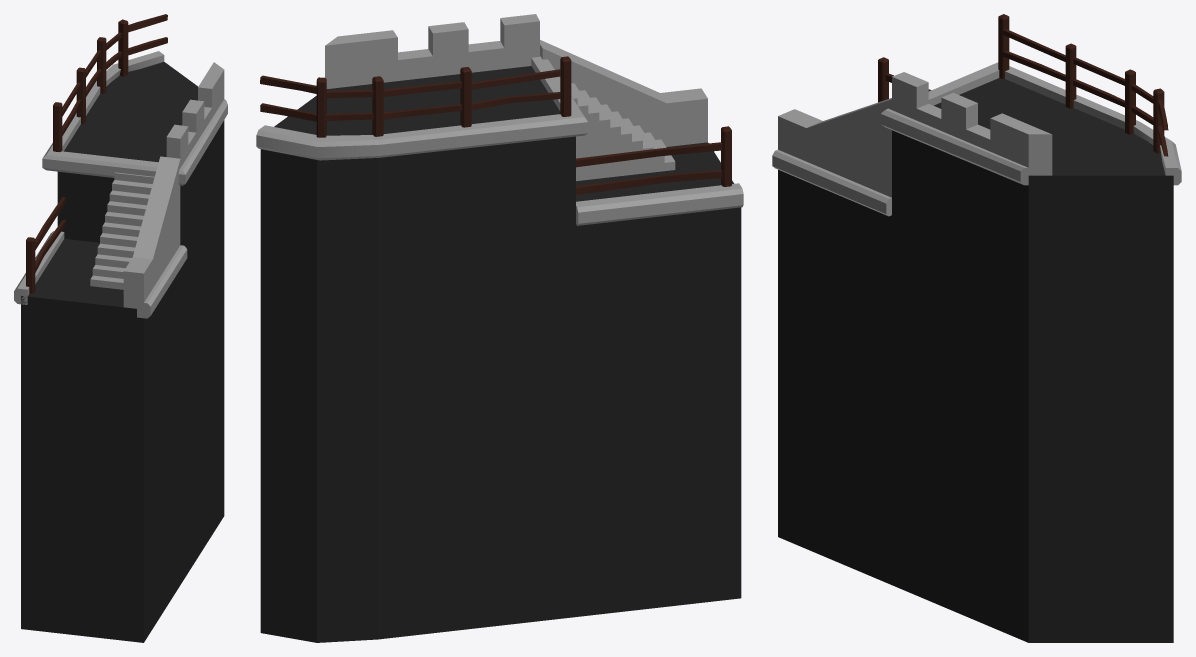
The model's file is port_wall_b_corner.FBX.
3 views of the same model, side by side, from view 1: azimuth 30°, elevation 25°; view 2: azimuth 150°, elevation 25°; view 3: azimuth 270°, elevation 25° (orthographic). The views are drawn at different scales.
Parts seen in each view (by area): view 1: port_wall_b_corner; view 2: port_wall_b_corner; view 3: port_wall_b_corner.
Part boxes in pixels (bbox=[...]): port_wall_b_corner: bbox=[14, 14, 227, 642]; port_wall_b_corner: bbox=[256, 14, 743, 642]; port_wall_b_corner: bbox=[772, 14, 1181, 642].
Bounding box in the file's own units: 1126 × 1809 × 1270.
